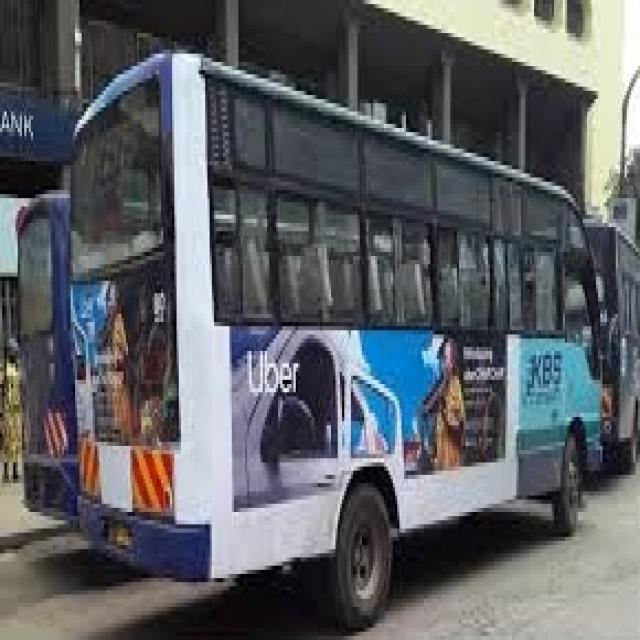bus: (59, 31, 622, 638)
